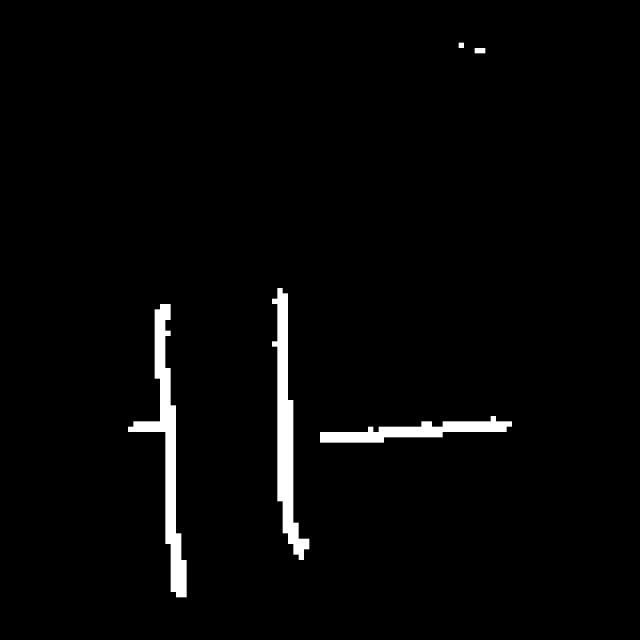capacitor: (150, 280, 313, 606)
